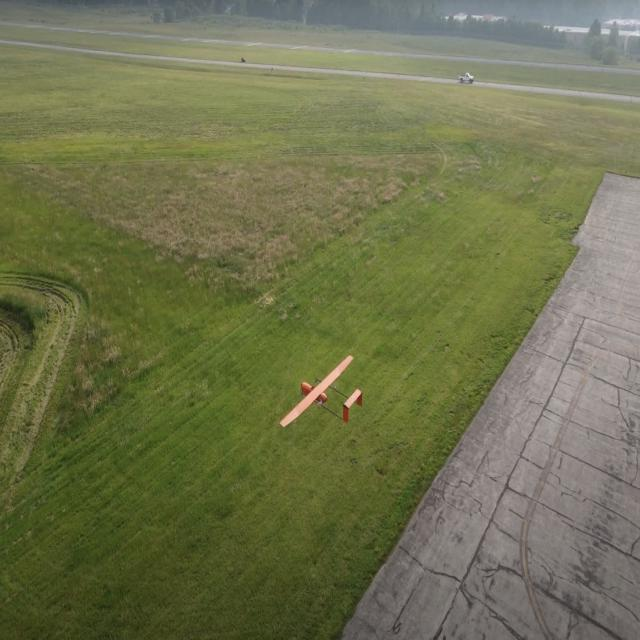iha: (310, 382, 340, 412)
